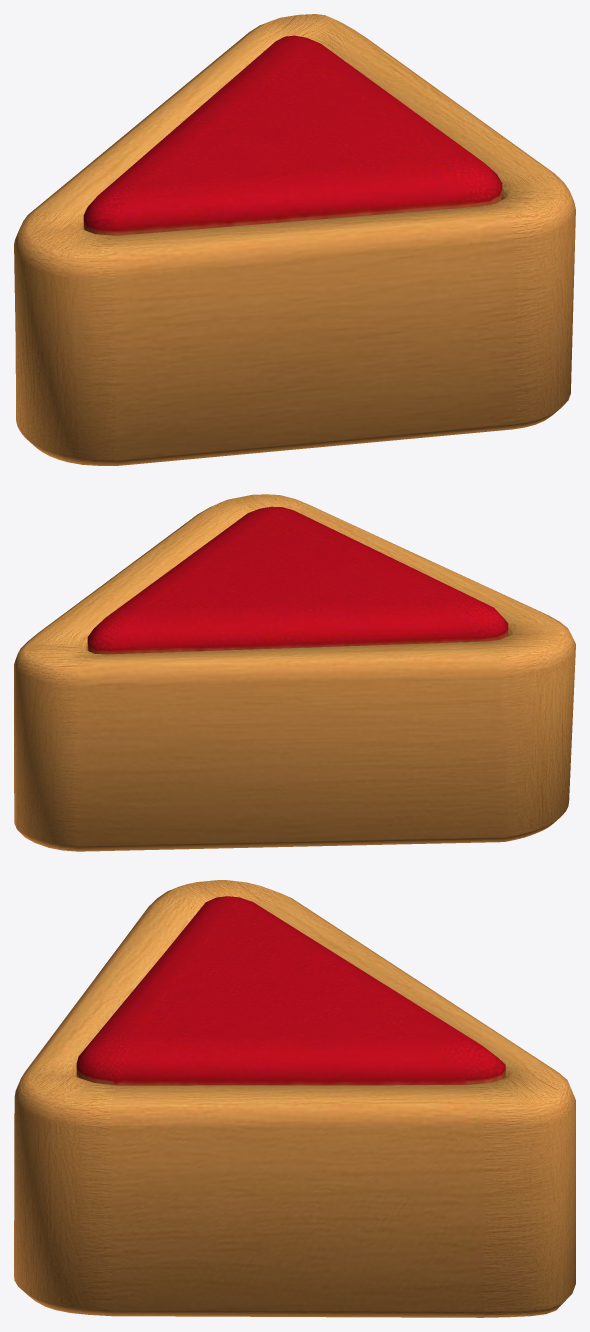
Rendered from cushion-red.glb.
3 views of the same model, one above another, from view 1: azimuth 30°, elevation 25°; view 2: azimuth 150°, elevation 25°; view 3: azimuth 270°, elevation 25° (orthographic). The views are drawn at different scales.
Parts seen in each view (by area): view 1: tripo_node_7b0e54be-bb9e-4a1a-ab4f-e99625fa2b86; view 2: tripo_node_7b0e54be-bb9e-4a1a-ab4f-e99625fa2b86; view 3: tripo_node_7b0e54be-bb9e-4a1a-ab4f-e99625fa2b86.
Boxes of the visible parts, box(x1,y1,x2,y2) form: tripo_node_7b0e54be-bb9e-4a1a-ab4f-e99625fa2b86: box(14, 14, 575, 465); tripo_node_7b0e54be-bb9e-4a1a-ab4f-e99625fa2b86: box(14, 494, 575, 851); tripo_node_7b0e54be-bb9e-4a1a-ab4f-e99625fa2b86: box(14, 880, 575, 1317).
Size of the model in its own units: 0.9976 by 0.4673 by 0.9995.
Materials: 1 (1 with a texture image).
